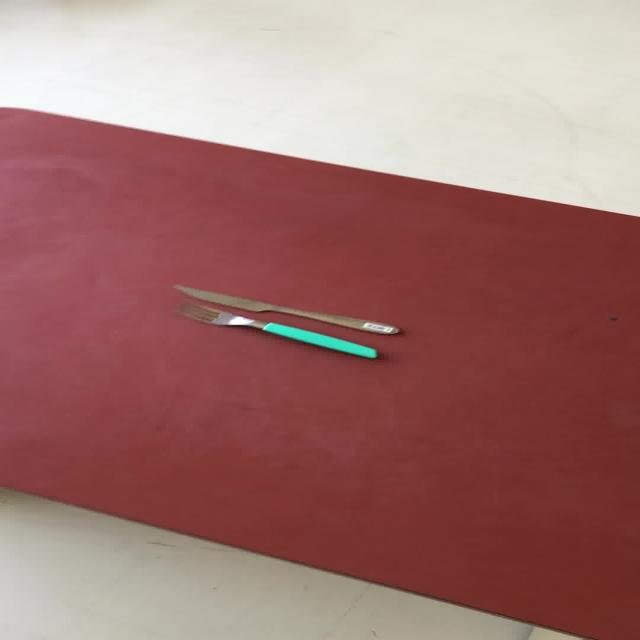fork: (178, 301, 378, 360)
knife fork: (172, 283, 400, 335)
